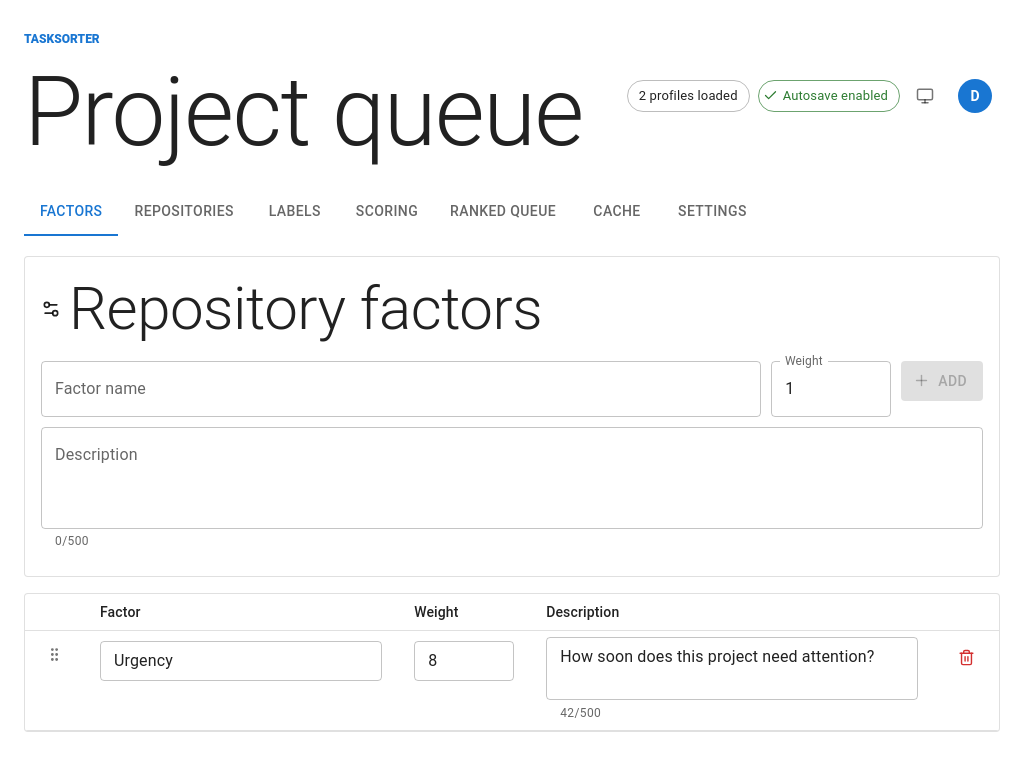
Test: App › shows backend repository validation inline
expect the text "Autosave enabled" is shown: met, box [783,88,888,103]
Click the tab "Repositories" at (184, 212), box [118,188,250,236]
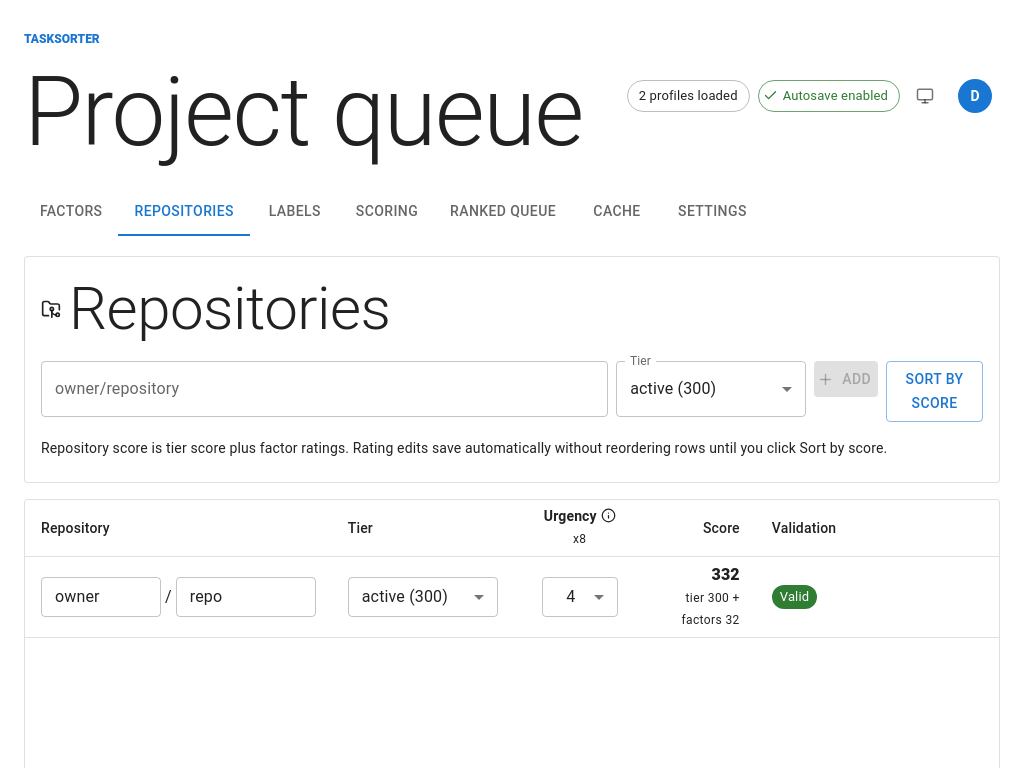
Replace the text in the 2nd field showing "repo" with "duplicate" at (246, 597), box [176,577,316,617]
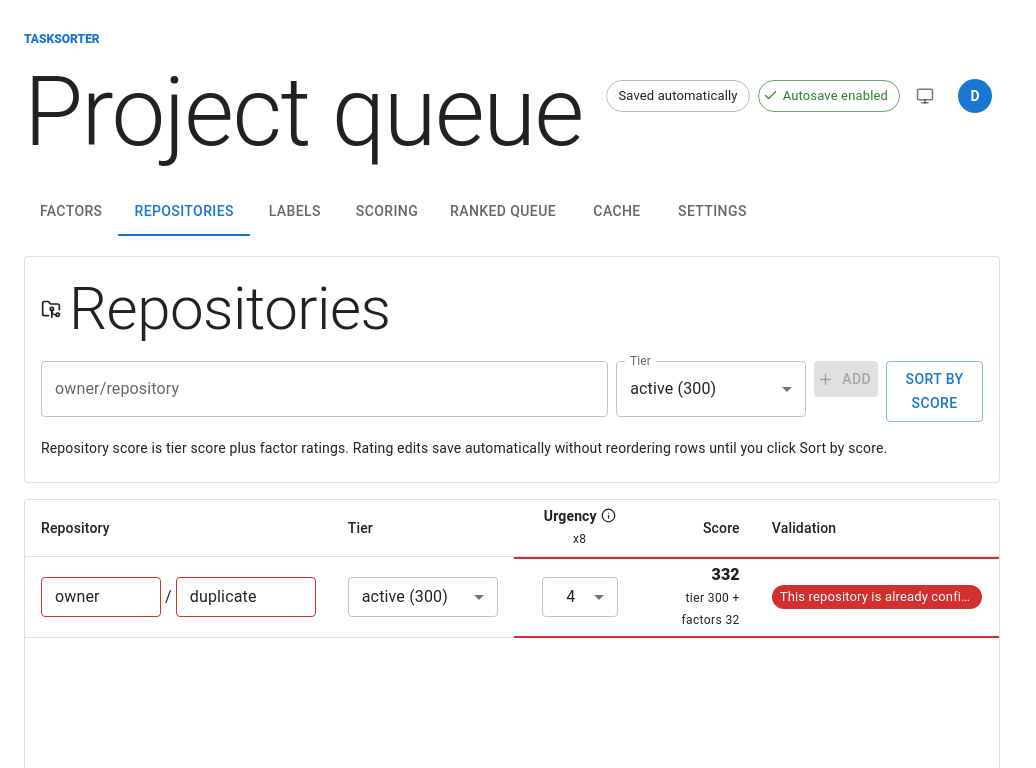
expect the text "This repository is already configured for the profile." is shown: met, box [772,587,982,607]
